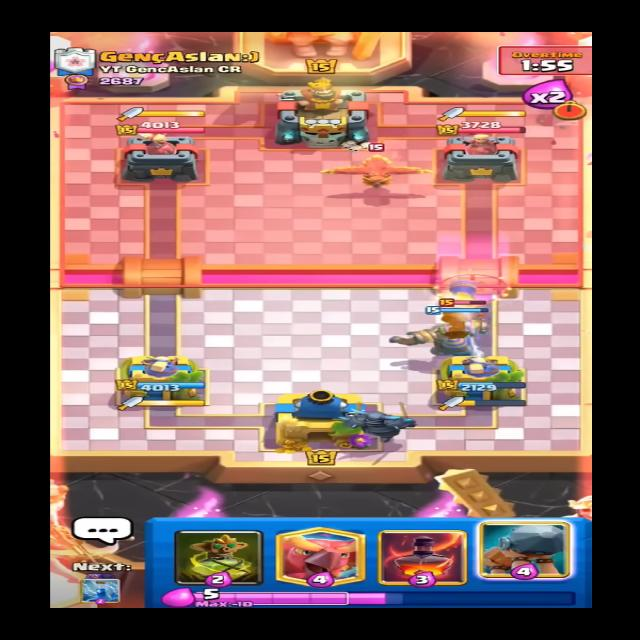phoenix: (323, 144, 432, 193)
